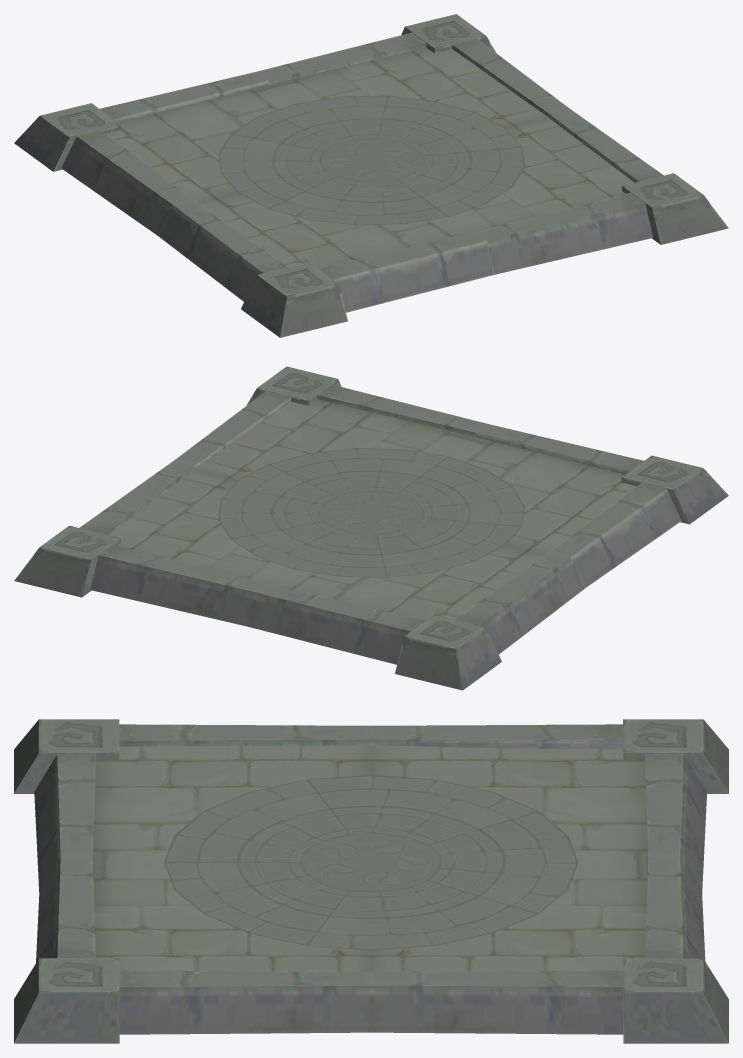
Rendered from shipan_Forest_01.FBX.
The picture shows the model from 3 angles, top to bottom: view 1: azimuth 30°, elevation 25°; view 2: azimuth 150°, elevation 25°; view 3: azimuth 270°, elevation 25°; orthographic projection. The views are drawn at different scales.
Parts seen in each view (by area): view 1: shipan_Forest_01; view 2: shipan_Forest_01; view 3: shipan_Forest_01.
Boxes of the visible parts, <box> form: shipan_Forest_01: <box>14,14,728,337</box>; shipan_Forest_01: <box>14,366,728,690</box>; shipan_Forest_01: <box>14,719,728,1043</box>.
Bounding box in the file's own units: 1045 × 67.82 × 1073.
